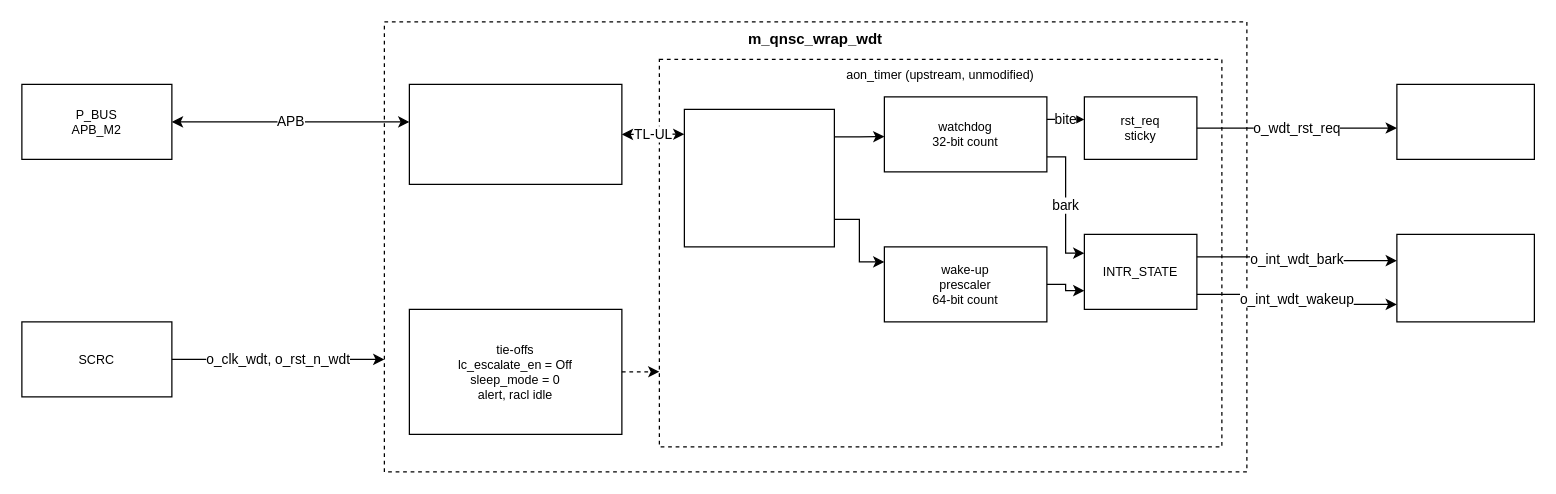
Image size: 1556x494. Some labels were removed from this diagram. The centre of each missing label's shape, as x and y in pixels:
INTMAP NMI, line 8: the point at 1465,277
qnsc_apb_to_tlul APB FSM + tlul_adapter_host: the point at 515,133
registers TL-UL reg top CDC: the point at 758,177
SCRC RRC: the point at 1465,121
